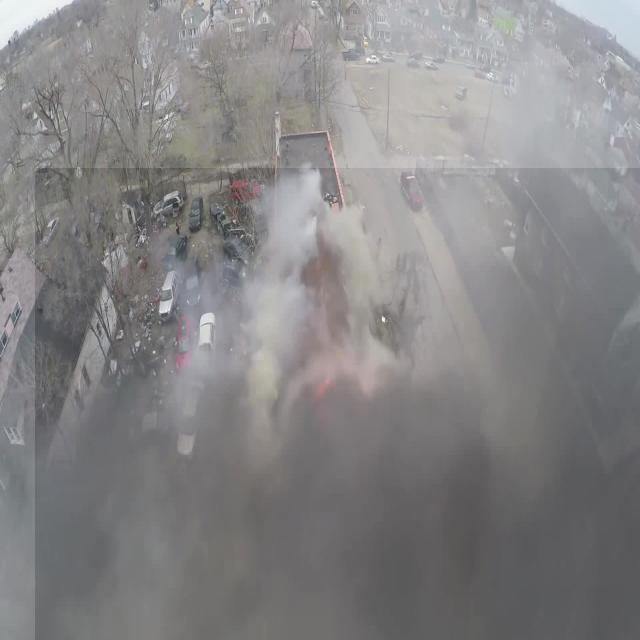Smoke: (35, 168, 640, 640)
